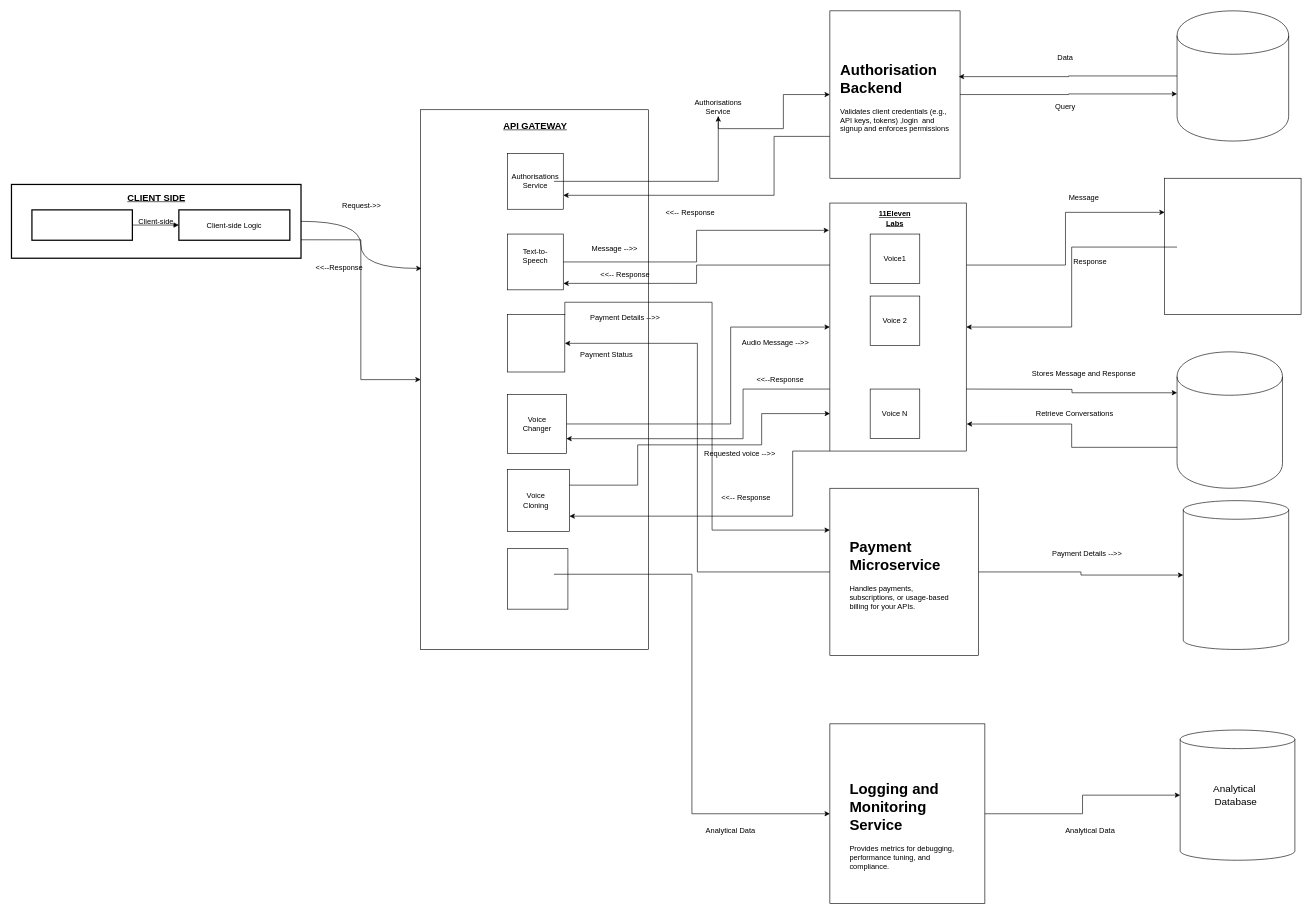
The diagram is 1312 pixels wide and 915 high, and some of its shapes have lost their labels. Each missing label, with the box of its shape:
Logging and Monitoring Service: (507, 548, 568, 609)
Message Database: (1176, 351, 1282, 488)
Payment: (507, 314, 565, 372)
Payment Database: (1183, 500, 1289, 649)
Text-to-speech Microservice Converts text input into natural, human-like speech: (1164, 178, 1301, 315)
User Interface: (31, 209, 133, 241)
Users Database: (1176, 10, 1289, 141)
